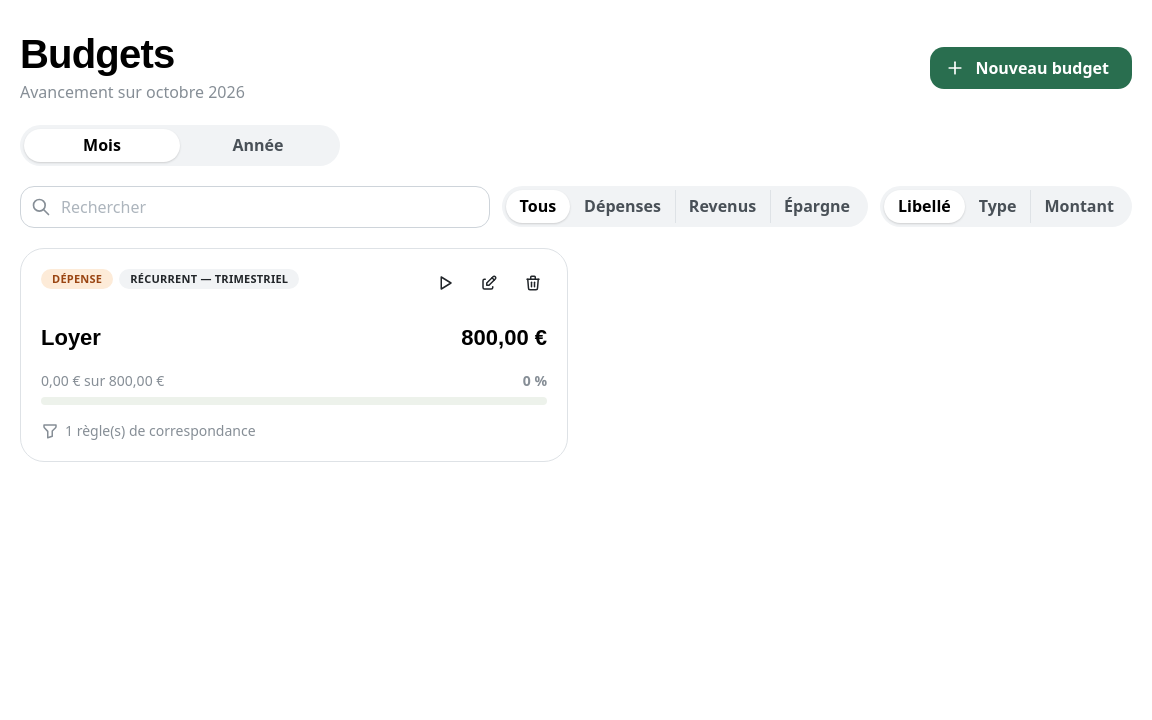
BudgetsPage › opens edit modal on edit button click
Click the button named "Modifier" at (489,283), box top-left (467, 261), bottom-right (511, 305)
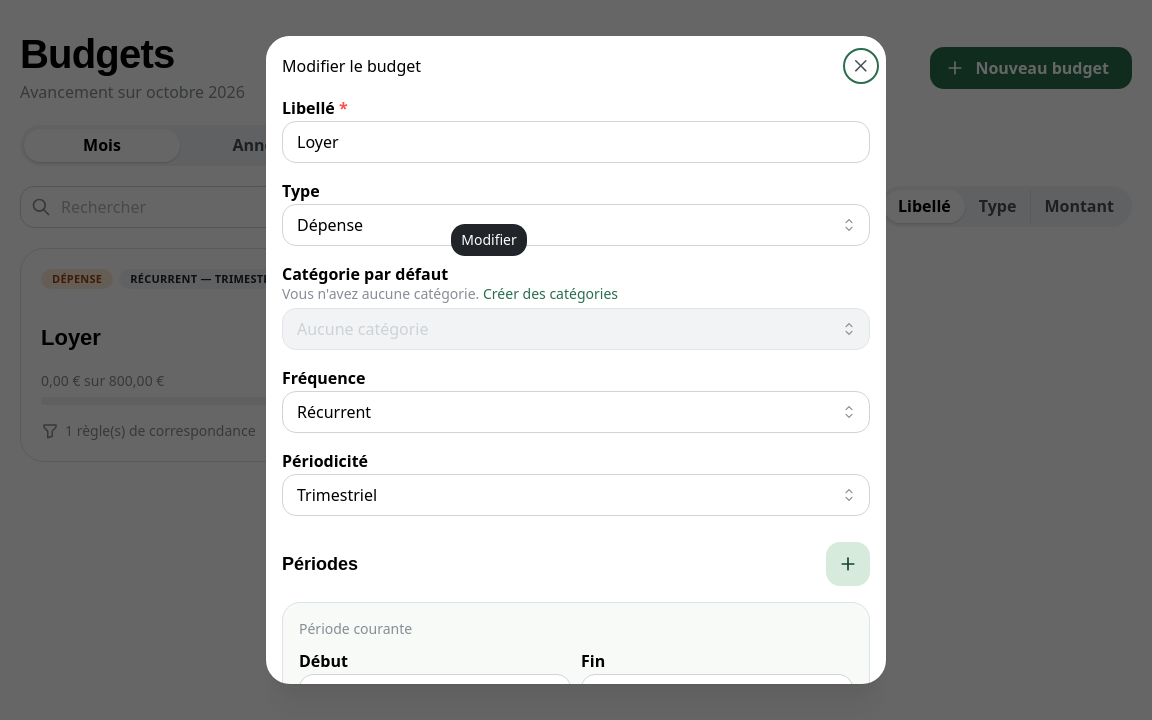
Check: the heading "Modifier le budget" is shown, box top-left (282, 58), bottom-right (421, 74)
Check: the field showing "Loyer" is shown, box top-left (282, 121), bottom-right (870, 163)
